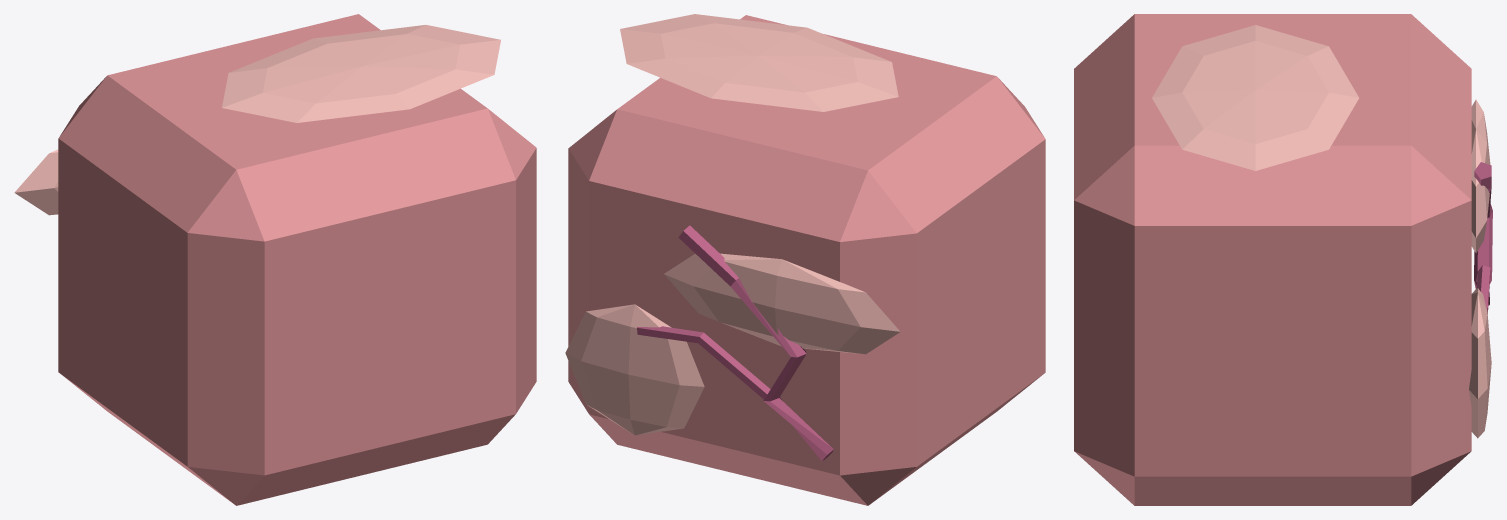
Rendered from flesh.glb.
The picture shows the model from 3 angles, left to right: view 1: azimuth 30°, elevation 25°; view 2: azimuth 150°, elevation 25°; view 3: azimuth 270°, elevation 25°; orthographic projection. The views are drawn at different scales.
Visible parts, largest first — view 1: flesh; view 2: flesh; view 3: flesh.
Boxes of the visible parts, <box> form: flesh: <box>14,14,536,505</box>; flesh: <box>565,14,1045,505</box>; flesh: <box>1074,14,1492,505</box>.
Size of the model in its own units: 0.5682 by 0.5 by 0.5005.
